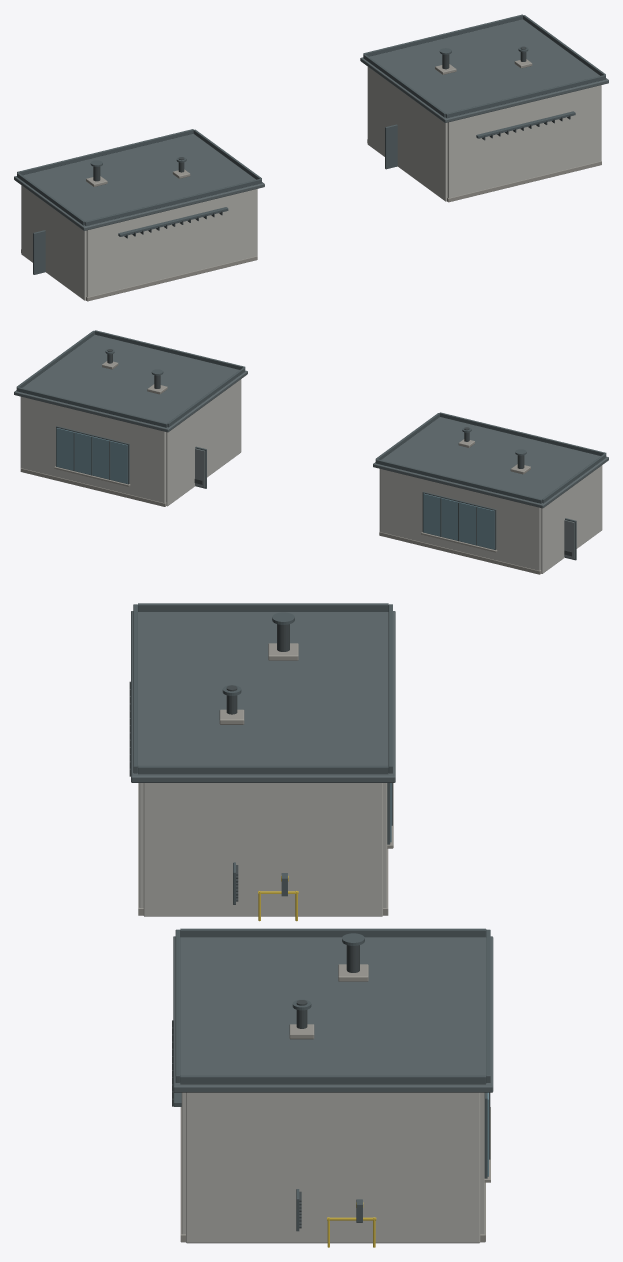
Rendered from process-buildings.glb.
3 renders of one model, top to bottom at view 1: azimuth 30°, elevation 25°; view 2: azimuth 150°, elevation 25°; view 3: azimuth 270°, elevation 25°, orthographic. The views are drawn at different scales.
Parts seen in each view (by area): view 1: PROCESS_ROOF, OPS_ROOF, PROCESS_BACK, OPS_BACK, PROCESS_LEFT, OPS_LEFT, OPS_EAVE_1, OPS_EAVE_0, PROCESS_EAVE_1, PROCESS_EAVE_0, OPS_PLINTH_BACK, PROCESS_PLINTH_BACK (+8 smaller); view 2: PROCESS_ROOF, OPS_ROOF, PROCESS_FRONT, OPS_FRONT, PROCESS_LEFT, OPS_LEFT, PROCESS_WINDOW_GLASS, OPS_WINDOW_GLASS, OPS_EAVE_0, OPS_EAVE_1, PROCESS_EAVE_0, PROCESS_EAVE_1 (+10 smaller); view 3: PROCESS_ROOF, PROCESS_RIGHT, OPS_ROOF, OPS_RIGHT, PROCESS_EAVE_3, PROCESS_EAVE_2, OPS_EAVE_3, OPS_EAVE_2, PROCESS_EAVE_1, OPS_EAVE_1, OPS_EAVE_0.
Boxes of the visible parts, x1=… form: PROCESS_ROOF: x1=360, y1=19, x2=608, y2=122; OPS_ROOF: x1=14, y1=133, x2=264, y2=230; PROCESS_BACK: x1=447, y1=85, x2=600, y2=198; OPS_BACK: x1=86, y1=189, x2=256, y2=297; PROCESS_LEFT: x1=367, y1=67, x2=447, y2=201; OPS_LEFT: x1=21, y1=185, x2=86, y2=300; OPS_EAVE_1: x1=84, y1=178, x2=261, y2=225; OPS_EAVE_0: x1=17, y1=129, x2=193, y2=175; PROCESS_EAVE_1: x1=445, y1=75, x2=605, y2=117; PROCESS_EAVE_0: x1=363, y1=14, x2=523, y2=56; OPS_PLINTH_BACK: x1=86, y1=256, x2=257, y2=301; PROCESS_PLINTH_BACK: x1=447, y1=161, x2=601, y2=202; PROCESS_ROOF: x1=14, y1=334, x2=247, y2=432; OPS_ROOF: x1=373, y1=417, x2=608, y2=508; PROCESS_FRONT: x1=21, y1=397, x2=165, y2=502; OPS_FRONT: x1=380, y1=469, x2=540, y2=570; PROCESS_LEFT: x1=166, y1=379, x2=241, y2=506; OPS_LEFT: x1=540, y1=465, x2=602, y2=573; PROCESS_WINDOW_GLASS: x1=56, y1=428, x2=127, y2=483; OPS_WINDOW_GLASS: x1=423, y1=493, x2=494, y2=549; OPS_EAVE_0: x1=375, y1=459, x2=542, y2=503; OPS_EAVE_1: x1=439, y1=412, x2=606, y2=455; PROCESS_EAVE_0: x1=16, y1=387, x2=167, y2=427; PROCESS_EAVE_1: x1=94, y1=330, x2=245, y2=369; PROCESS_ROOF: x1=173, y1=936, x2=493, y2=1092; PROCESS_RIGHT: x1=186, y1=1092, x2=480, y2=1243; OPS_ROOF: x1=131, y1=611, x2=395, y2=782; OPS_RIGHT: x1=143, y1=783, x2=382, y2=916; PROCESS_EAVE_3: x1=180, y1=1075, x2=486, y2=1084; PROCESS_EAVE_2: x1=180, y1=928, x2=486, y2=937; OPS_EAVE_3: x1=138, y1=765, x2=388, y2=774; OPS_EAVE_2: x1=138, y1=603, x2=388, y2=611; PROCESS_EAVE_1: x1=175, y1=929, x2=180, y2=1082; OPS_EAVE_1: x1=133, y1=604, x2=137, y2=773; OPS_EAVE_0: x1=388, y1=604, x2=392, y2=773.
Size of the model in its own units: 32.57 by 6.08 by 9.88.
